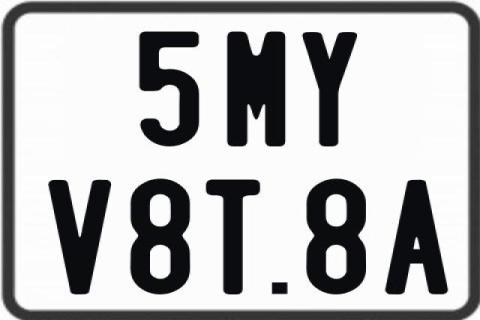0: (137, 31, 199, 150), (304, 177, 366, 296), (128, 178, 189, 294)
A: (384, 179, 449, 293)
M: (225, 30, 284, 148)
T: (204, 178, 263, 298)
V: (47, 180, 114, 296)
Y: (302, 30, 360, 144)
